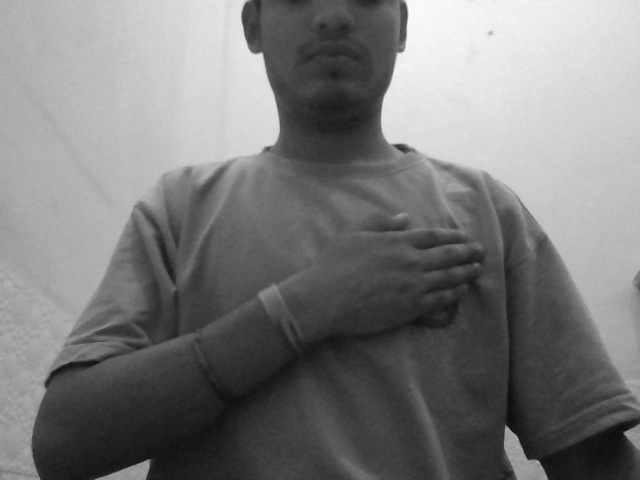Sorry: (271, 198, 511, 374)
